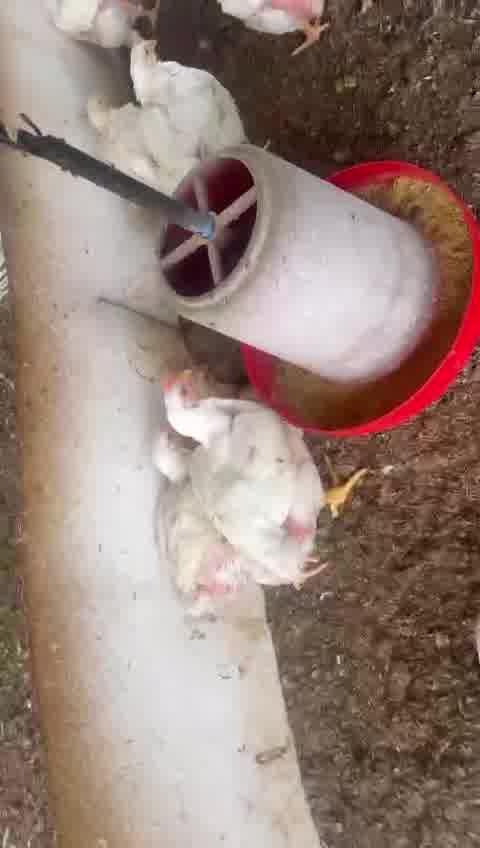AbNormal: (86, 87, 170, 212)
Normal: (158, 365, 374, 578), (143, 432, 255, 619), (125, 37, 254, 158)
